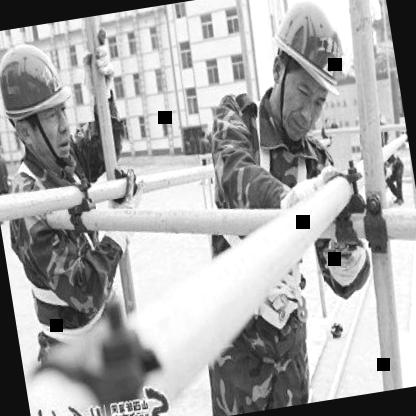helmet: (246, 0, 375, 158), (0, 22, 90, 182)
